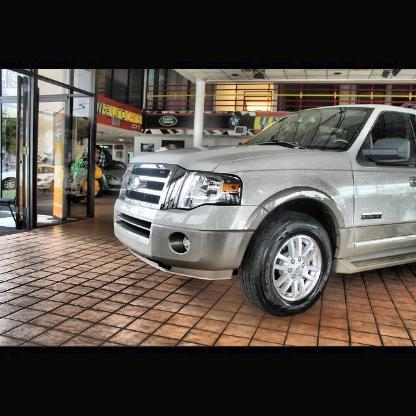Ford Expedition EL SUV 2009: (114, 105, 416, 318)
